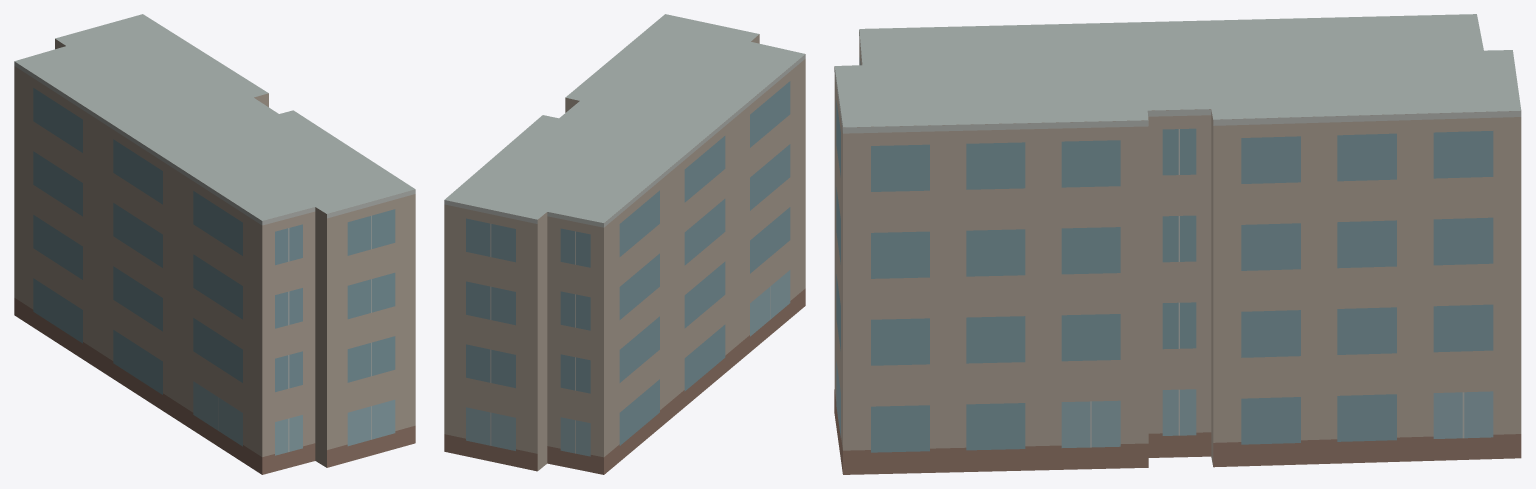
File: survey-upis-32744393.glb
3 renders of one model, left to right at view 1: azimuth 30°, elevation 25°; view 2: azimuth 150°, elevation 25°; view 3: azimuth 270°, elevation 25°, orthographic. The views are drawn at different scales.
Visible parts, largest first — view 1: survey-upis-32744393.tmp; view 2: survey-upis-32744393.tmp; view 3: survey-upis-32744393.tmp.
Boxes of the visible parts, bbox=[...] form: survey-upis-32744393.tmp: bbox=[14, 14, 415, 474]; survey-upis-32744393.tmp: bbox=[444, 14, 805, 474]; survey-upis-32744393.tmp: bbox=[834, 14, 1521, 474].
Bounding box in the file's own units: 9.6 × 13.7 × 24.55.
